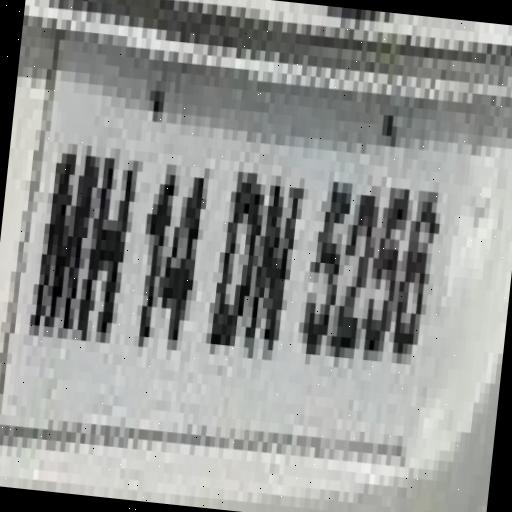number plate: (0, 107, 499, 453)
